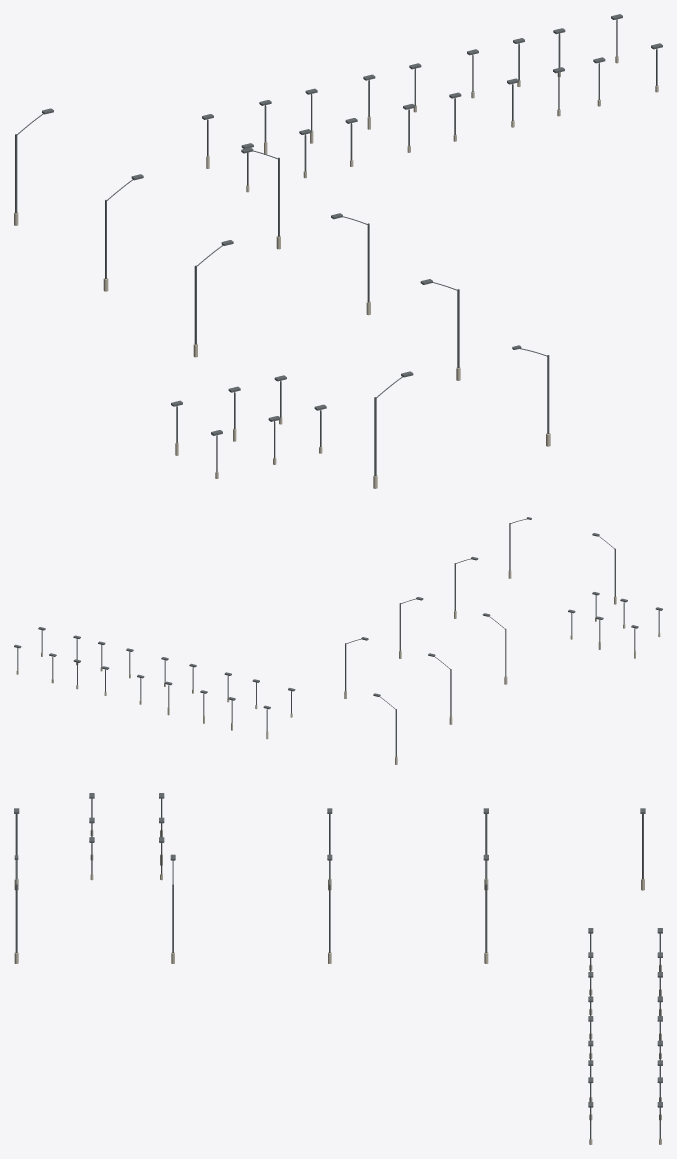
The picture shows the model from 3 angles, top to bottom: view 1: azimuth 30°, elevation 25°; view 2: azimuth 150°, elevation 25°; view 3: azimuth 270°, elevation 25°; orthographic projection. The views are drawn at different scales.
Visible parts, largest first — view 1: buildings_s_-9_-1_Dark_Metal, buildings_s_-9_-1_Warm_Limestone; view 2: buildings_s_-9_-1_Dark_Metal, buildings_s_-9_-1_Warm_Limestone; view 3: buildings_s_-9_-1_Dark_Metal, buildings_s_-9_-1_Warm_Limestone.
Boxes of the visible parts, box(x1,y1,x2,y2) form: buildings_s_-9_-1_Dark_Metal: box(15, 14, 662, 476); buildings_s_-9_-1_Warm_Limestone: box(14, 56, 658, 488); buildings_s_-9_-1_Dark_Metal: box(14, 517, 662, 757); buildings_s_-9_-1_Warm_Limestone: box(16, 570, 660, 764); buildings_s_-9_-1_Dark_Metal: box(14, 793, 662, 1139); buildings_s_-9_-1_Warm_Limestone: box(14, 830, 661, 1144).
Bounding box in the file's own units: 128 × 17.75 × 112.
